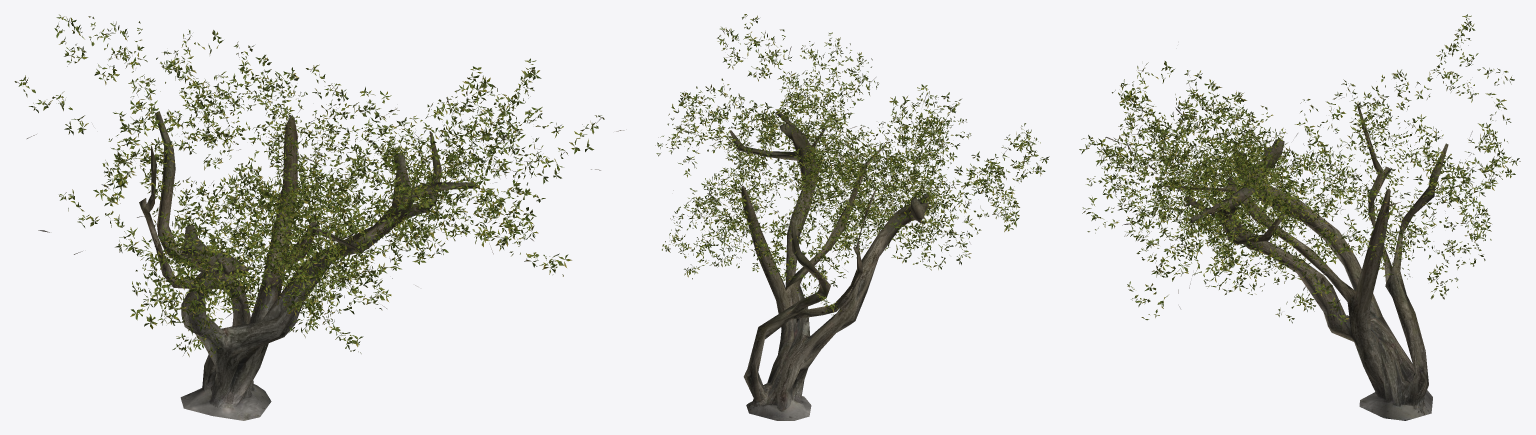
File: island_tree_02.glb
3 renders of one model, left to right at view 1: azimuth 30°, elevation 25°; view 2: azimuth 150°, elevation 25°; view 3: azimuth 270°, elevation 25°, orthographic. The views are drawn at different scales.
Visible parts, largest first — view 1: island_tree_02_LOD0; view 2: island_tree_02_LOD0; view 3: island_tree_02_LOD0.
Part boxes in pixels (box(x1,y1,x2,y2)): island_tree_02_LOD0: box(14, 14, 624, 420); island_tree_02_LOD0: box(655, 14, 1049, 420); island_tree_02_LOD0: box(1079, 14, 1520, 420).
Bounding box in the file's own units: 4.21 × 3.41 × 4.07.
Materials: 3 (3 with a texture image).
